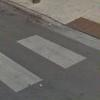Crosswalk: (4, 29, 98, 83)
